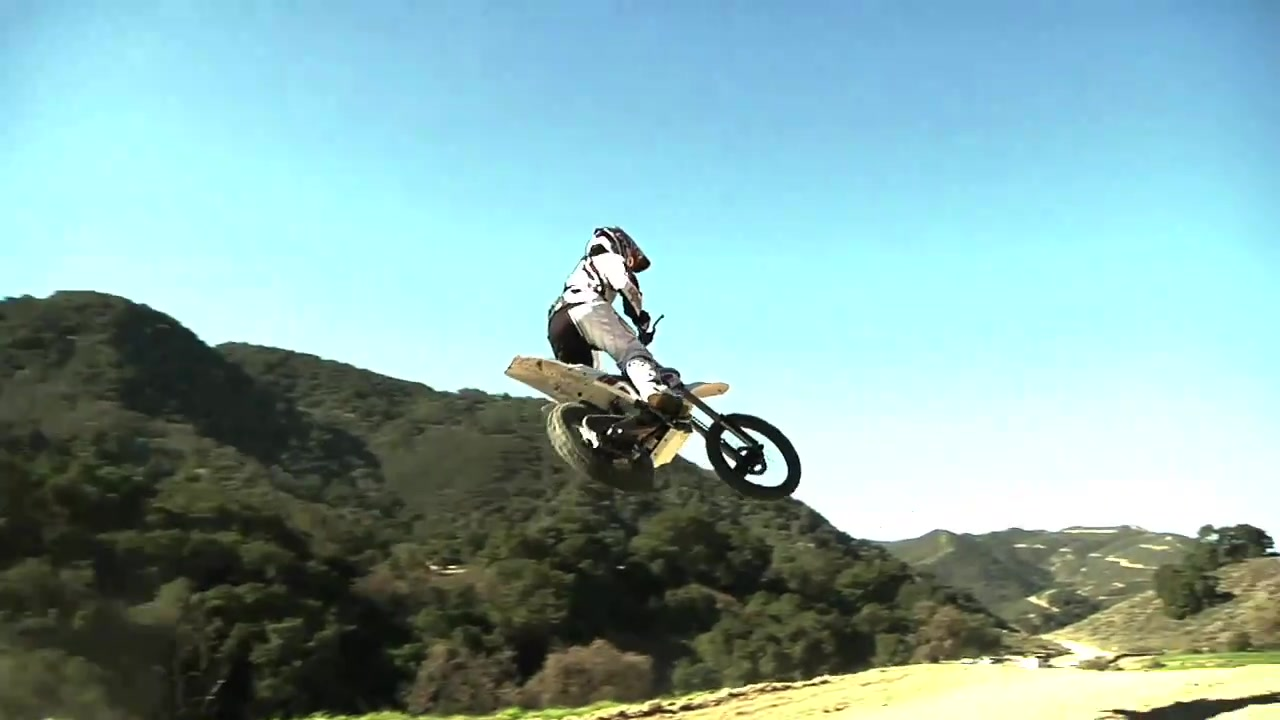motorbike: (501, 313, 803, 499)
